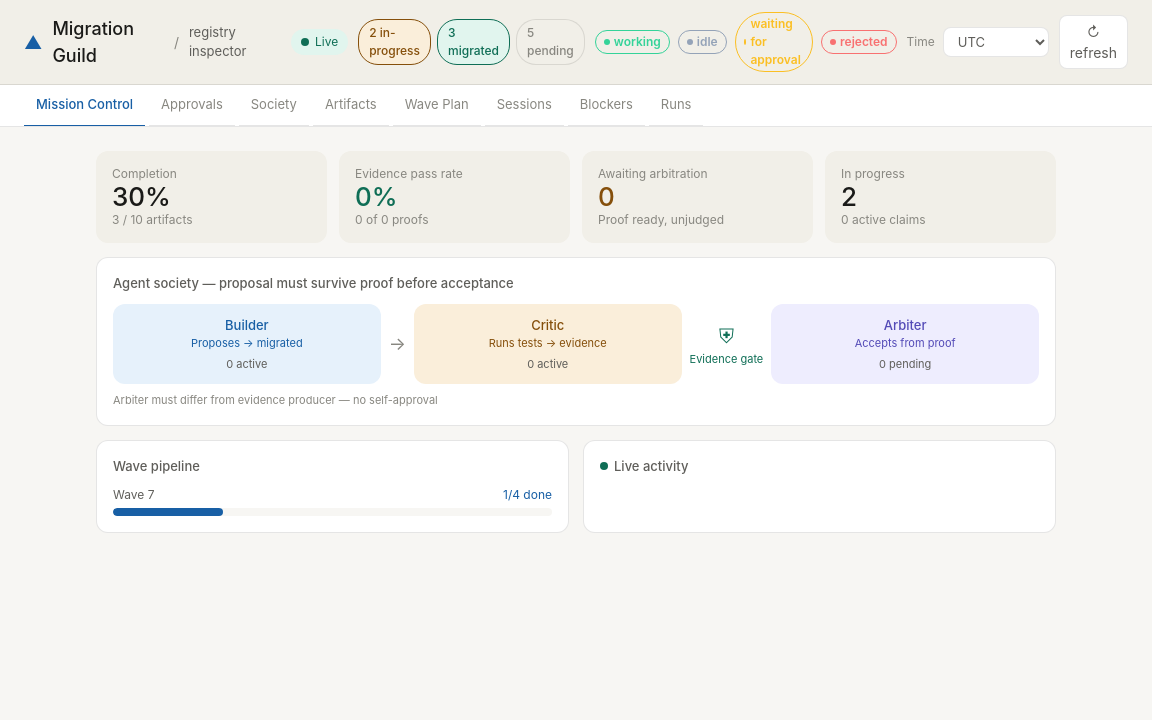
Test: App shell › switches timestamp rendering between utc and local mode
Click the tab "Runs".
click(676, 105)  # box [649, 85, 704, 126]
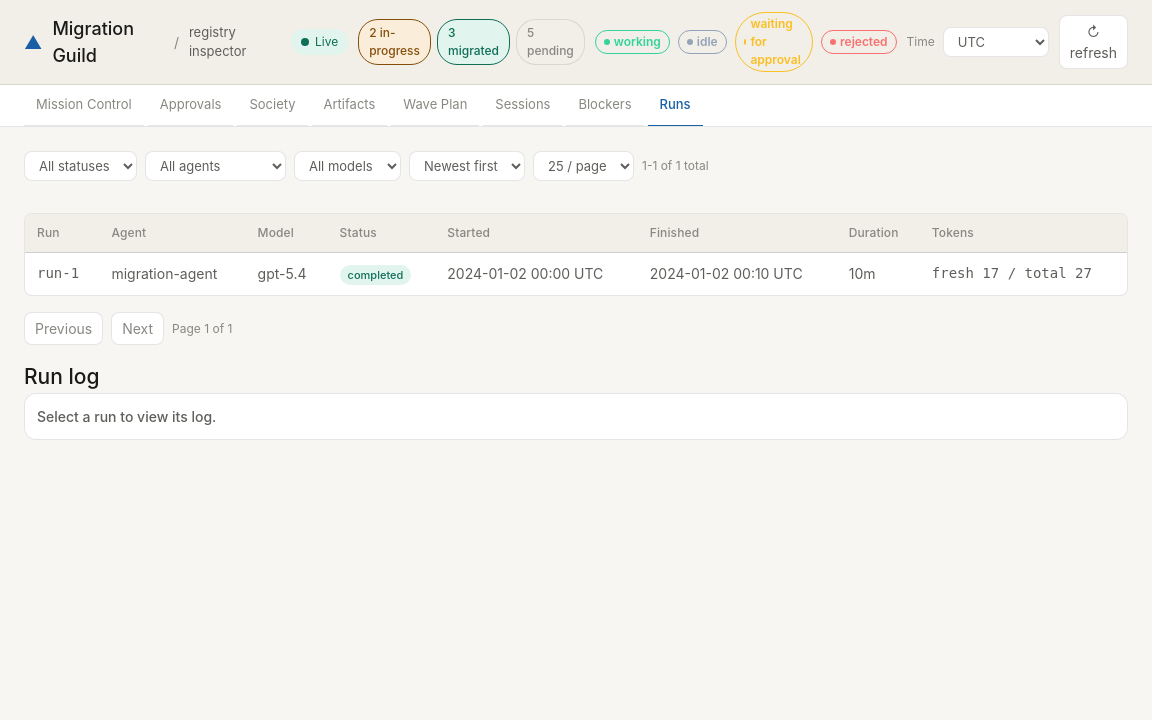
Expected: the text "2024-01-02 00:00 UTC" is shown, [435, 252, 638, 295]
Select "Local time" in the dropdown named "time display mode" at (996,42), box [943, 27, 1049, 57]
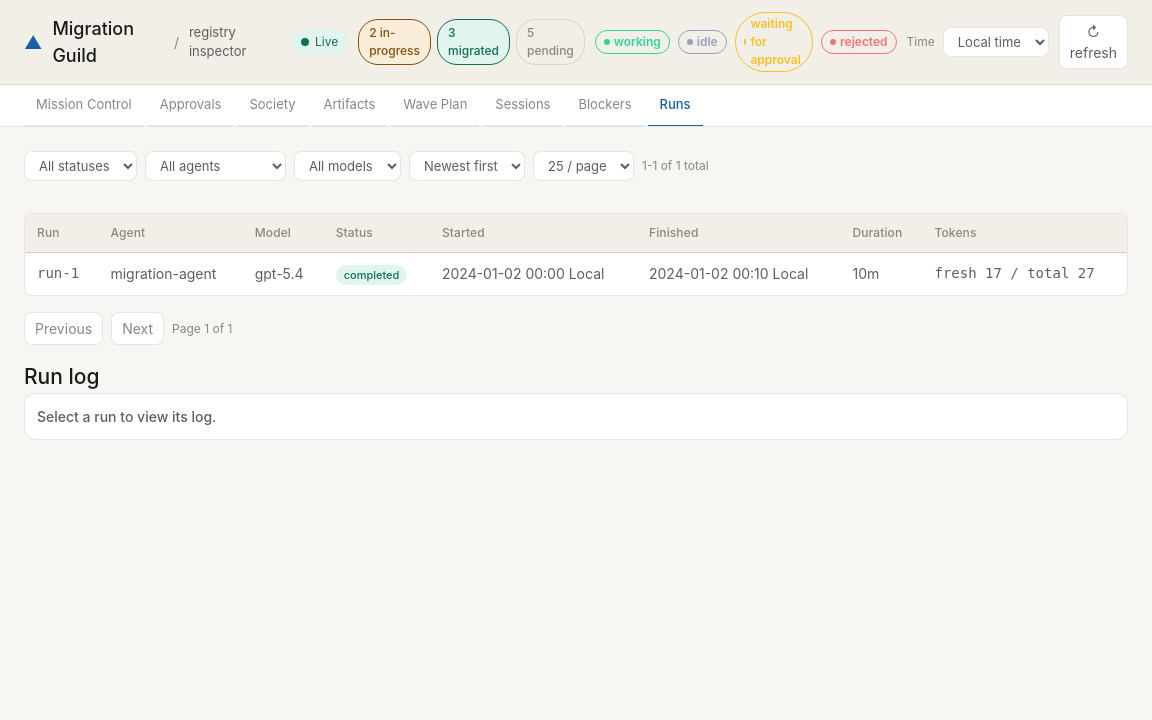
Expected: the text "2024-01-02 00:00 Local" is shown, [430, 252, 637, 295]
